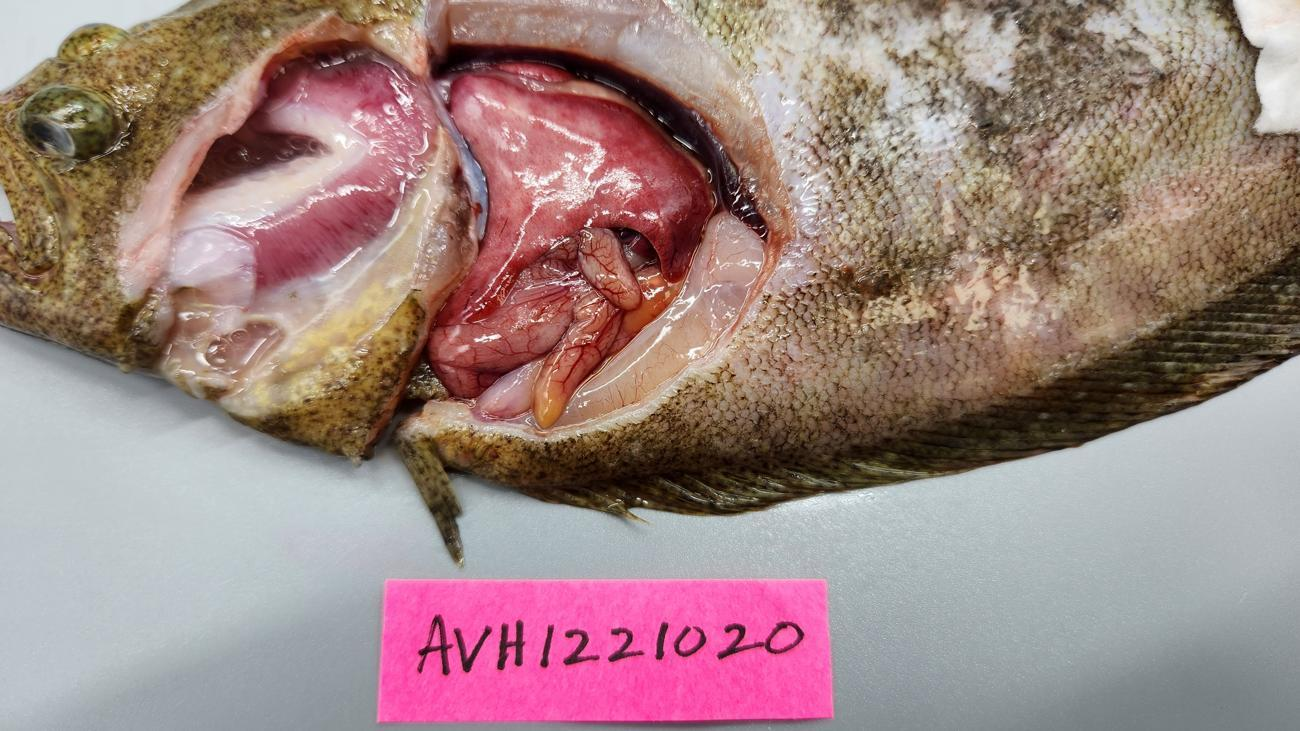VILII: (461, 96, 613, 242)
